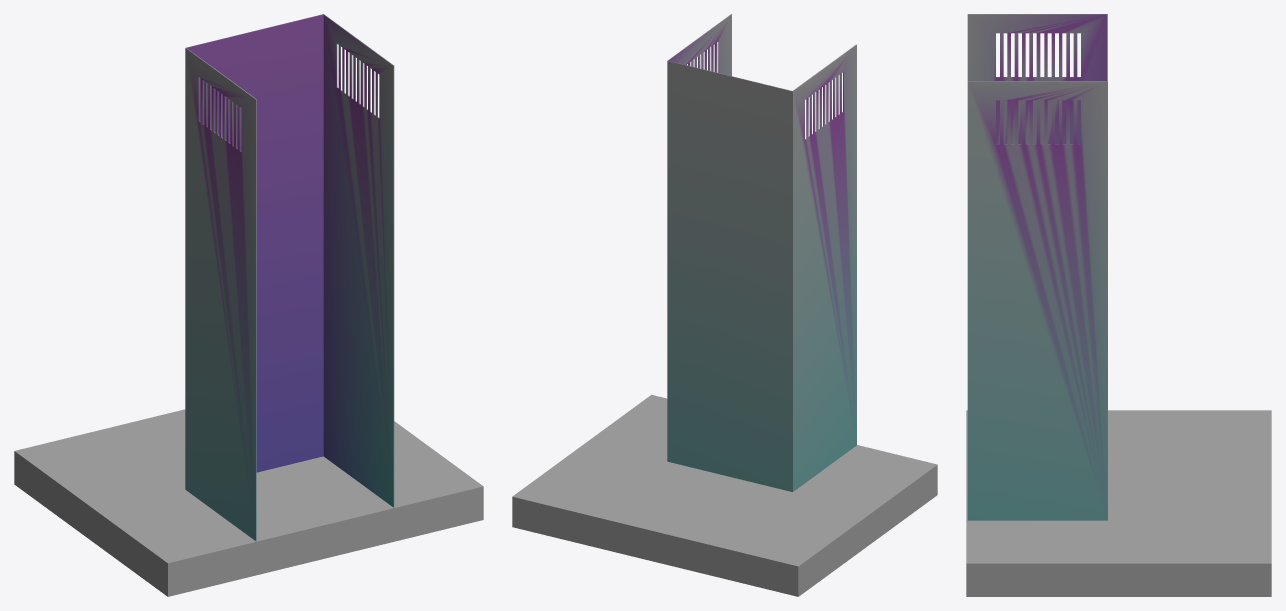
3 renders of one model, left to right at view 1: azimuth 30°, elevation 25°; view 2: azimuth 150°, elevation 25°; view 3: azimuth 270°, elevation 25°, orthographic. The views are drawn at different scales.
Visible parts, largest first — view 1: walls, slab; view 2: walls, slab; view 3: walls, slab.
Boxes of the visible parts, x1,y1,x2,y2 form: walls: [185, 14, 394, 541]; slab: [14, 409, 483, 596]; walls: [667, 14, 856, 491]; slab: [512, 394, 937, 596]; walls: [967, 14, 1107, 520]; slab: [966, 410, 1271, 596].
Bounding box in the file's own units: 0.6197 × 0.892 × 0.5223.
